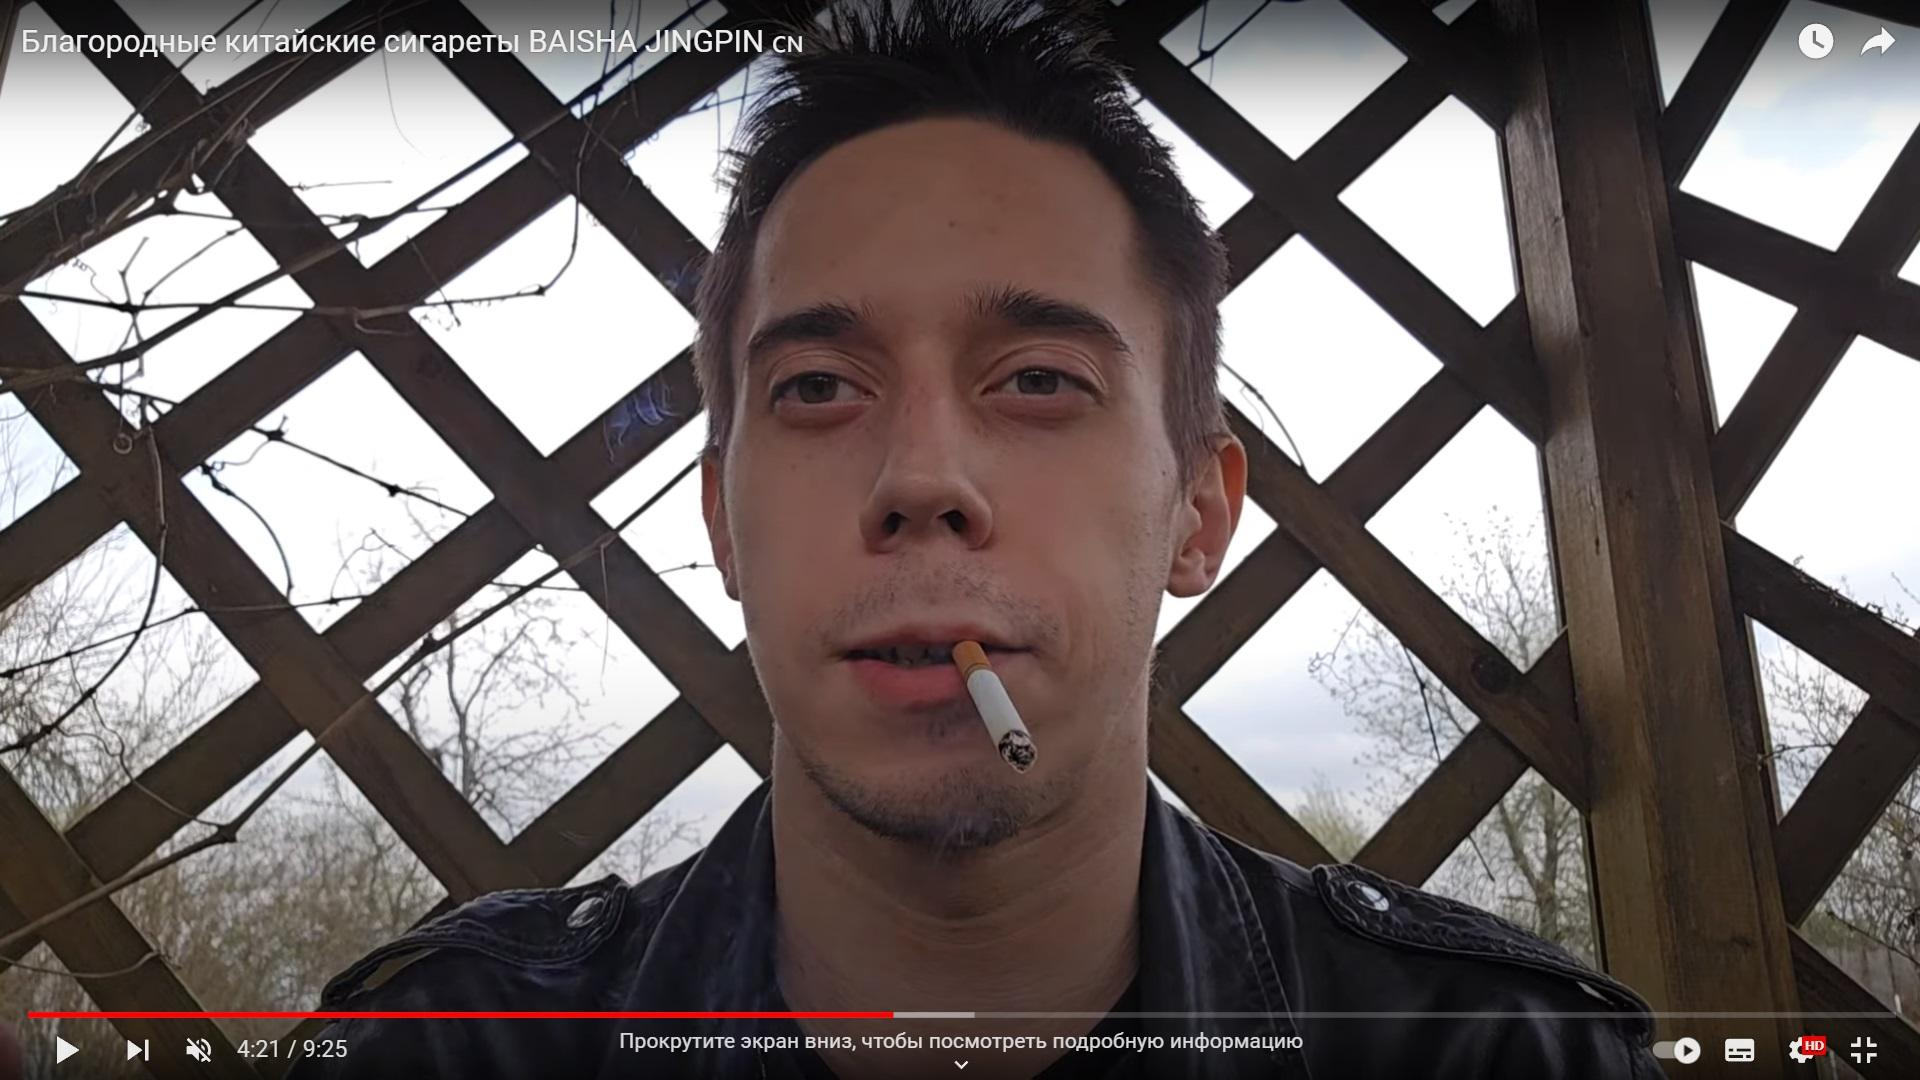cigarette: (949, 638, 1038, 773)
